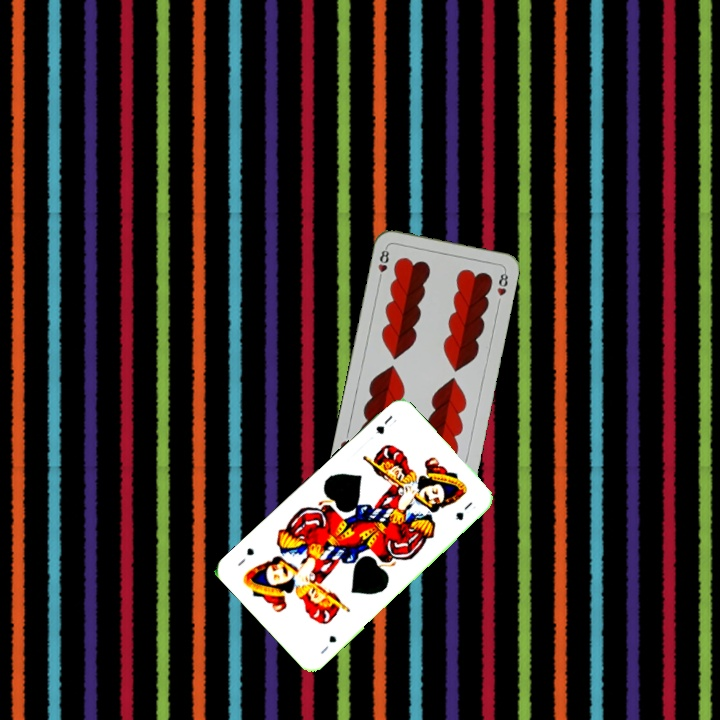GU: (372, 411, 395, 437), (317, 631, 339, 657)
H8: (374, 243, 392, 284)
